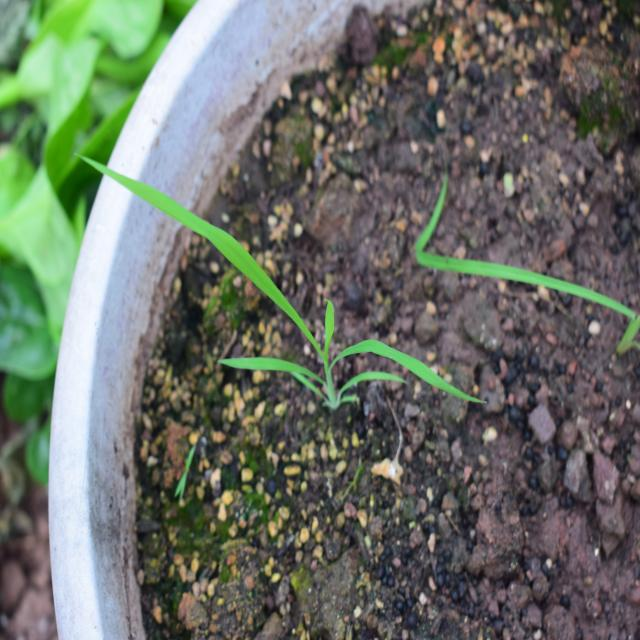barnyard_grass: (76, 138, 490, 419)
